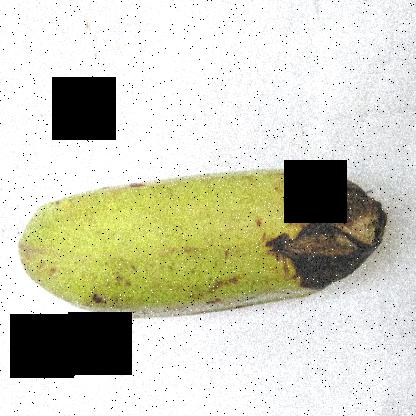rotten: (256, 135, 391, 326)
